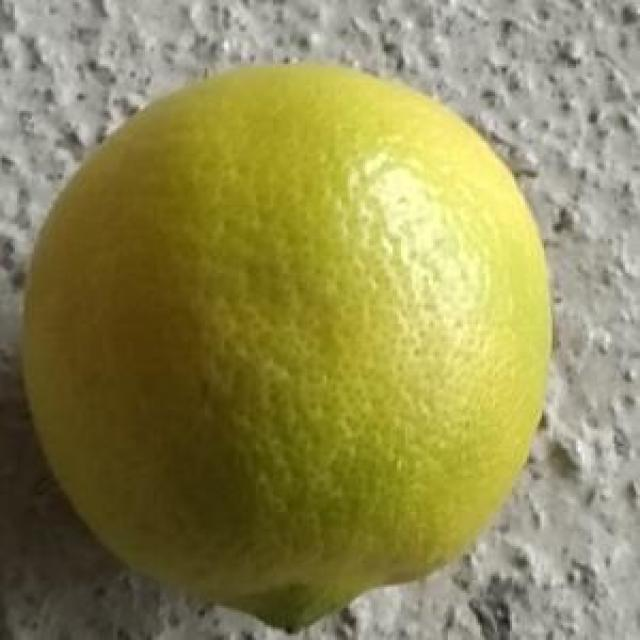lemon: (19, 54, 554, 626)
